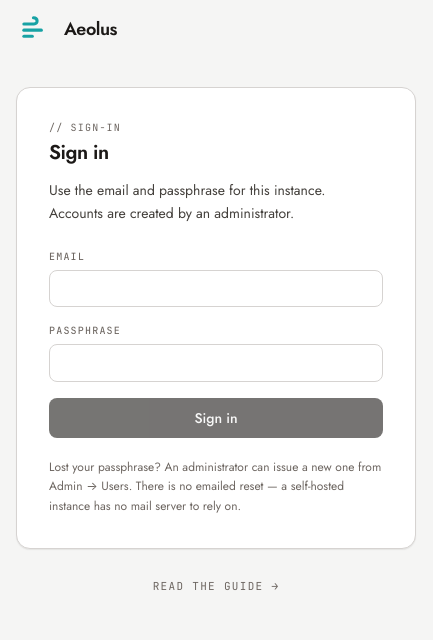
Test: LoginRoute › shows the server's sentence on a refusal and stays put
Type "ada@example.com" into the field with test id "login-email" at (216, 288), box [49,270,383,307]
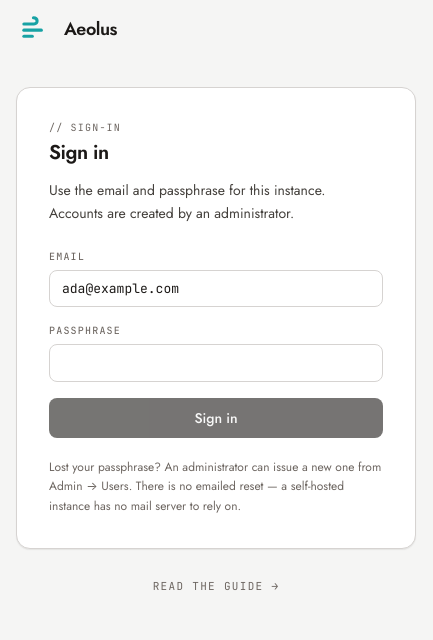
Type "correct horse battery staple" into the password field with test id "login-passphrase" at (216, 363), box [49,344,383,382]
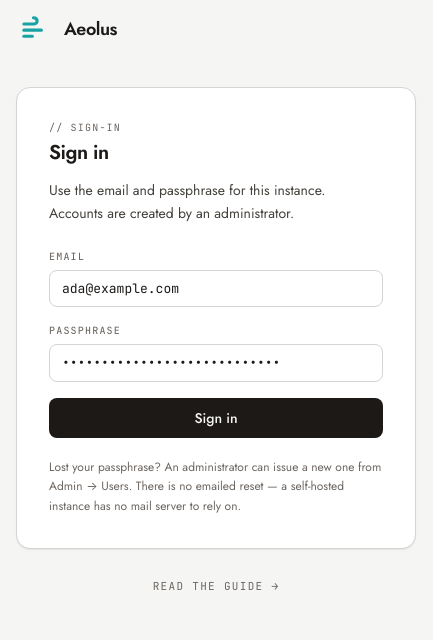
Submit the form with test id "login-form", box [49,248,383,438]
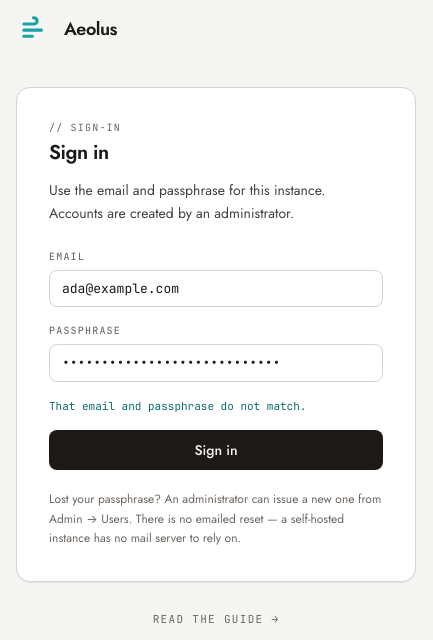
Expected: the button with test id "login-submit" is enabled, [49,430,383,470]
Expected: the message with test id "login-error" reads "That email and passphrase do not match.", [49,398,306,412]
